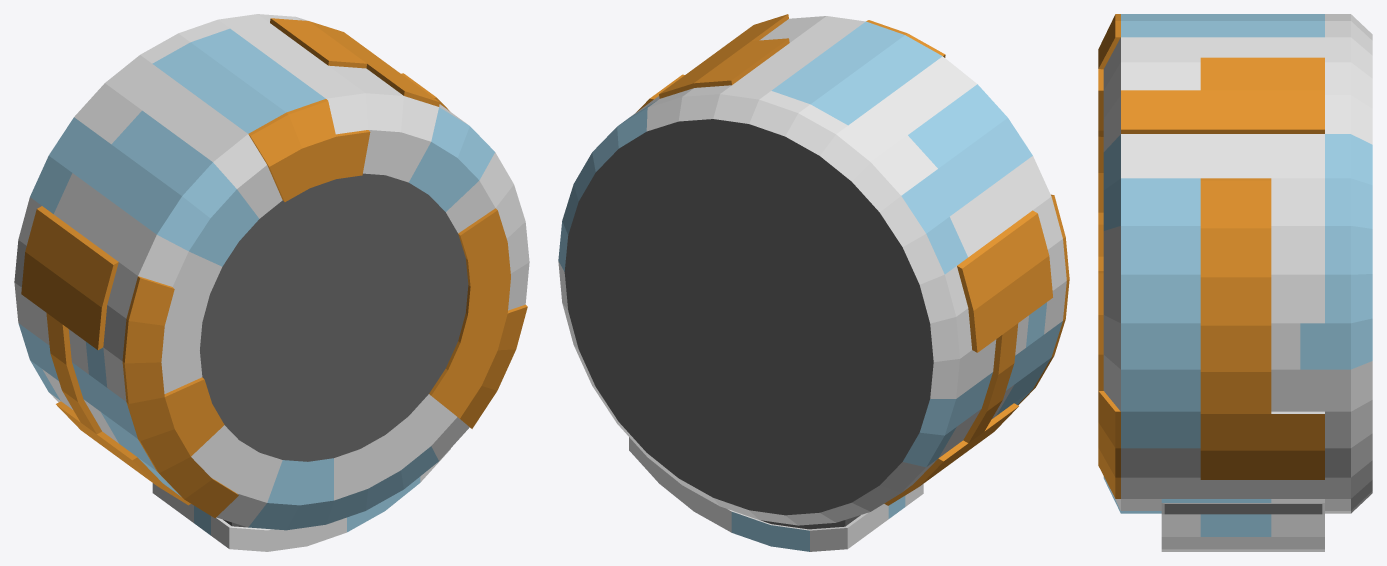
File: head7.glb
3 renders of one model, left to right at view 1: azimuth 30°, elevation 25°; view 2: azimuth 150°, elevation 25°; view 3: azimuth 270°, elevation 25°, orthographic. The views are drawn at different scales.
Visible parts, largest first — view 1: body9; view 2: body9; view 3: body9.
Part boxes in pixels (x1=…): body9: x1=14, y1=14, x2=529, y2=551; body9: x1=558, y1=14, x2=1069, y2=551; body9: x1=1098, y1=14, x2=1372, y2=551.
Bounding box in the file's own units: 1.81 × 1.92 × 0.971.
